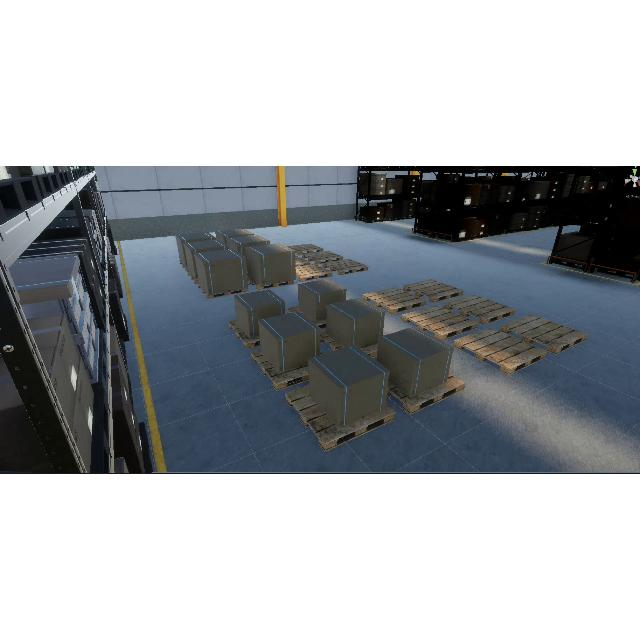wooden_pallet: (282, 385, 398, 454), (453, 327, 550, 373), (502, 313, 589, 356), (387, 371, 465, 415), (399, 305, 481, 342), (250, 346, 309, 390), (445, 291, 517, 325), (364, 287, 426, 314), (402, 276, 463, 303), (229, 320, 262, 348), (197, 281, 250, 298), (323, 257, 368, 276), (247, 274, 296, 290), (295, 263, 334, 283), (302, 249, 343, 263), (287, 243, 323, 255), (295, 254, 311, 266)
